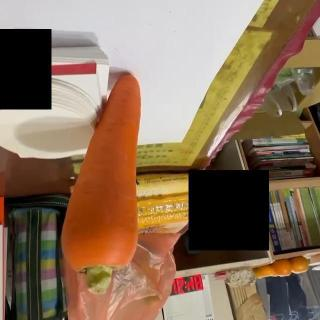carrot: (61, 71, 145, 293)
